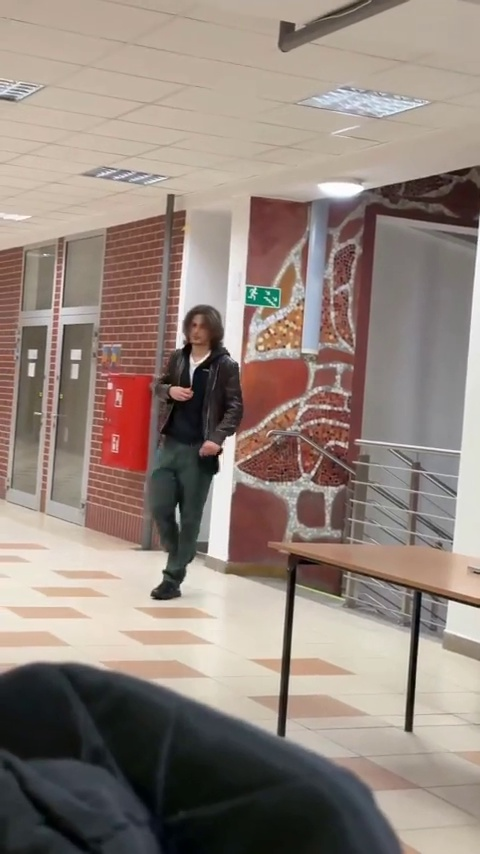no vest: (158, 302, 247, 598)
